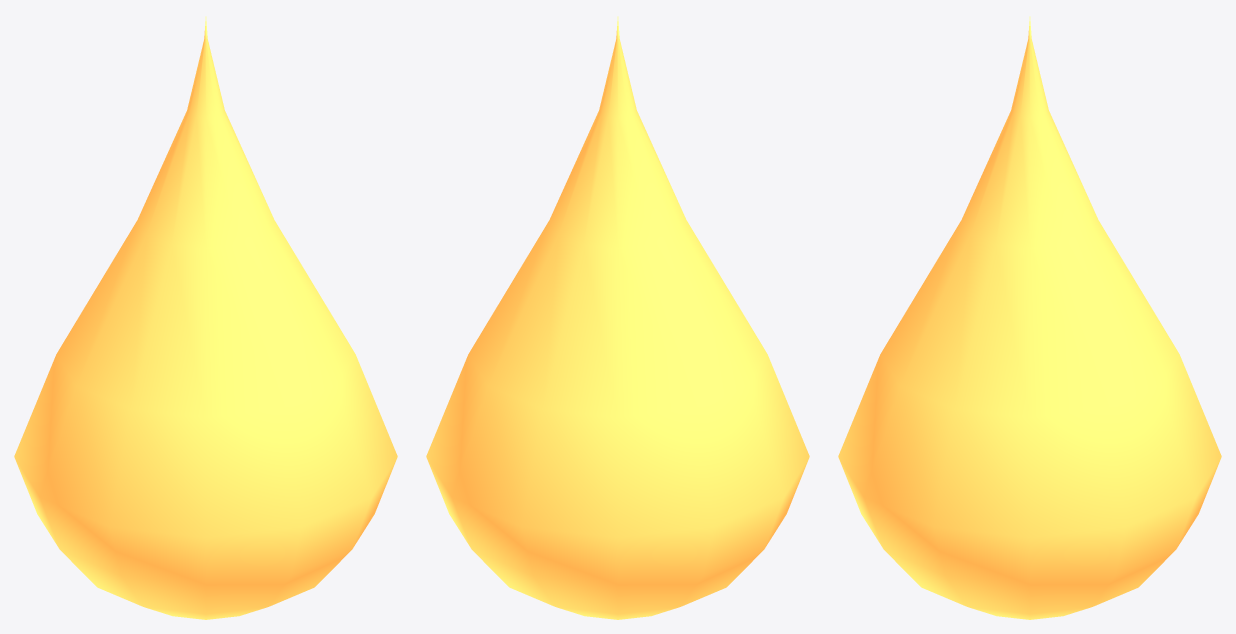
Rendered from flame_blob.glb.
3 renders of one model, left to right at view 1: azimuth 30°, elevation 25°; view 2: azimuth 150°, elevation 25°; view 3: azimuth 270°, elevation 25°, orthographic.
Visible parts, largest first — view 1: flame_blob; view 2: flame_blob; view 3: flame_blob.
Boxes of the visible parts, x1=… form: flame_blob: x1=14, y1=16, x2=397, y2=619; flame_blob: x1=426, y1=16, x2=809, y2=619; flame_blob: x1=838, y1=16, x2=1221, y2=619.
Bounding box in the file's own units: 0.1182 × 0.2 × 0.1182.
